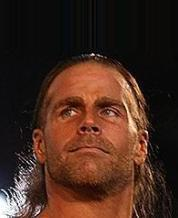face: (56, 99, 123, 157)
